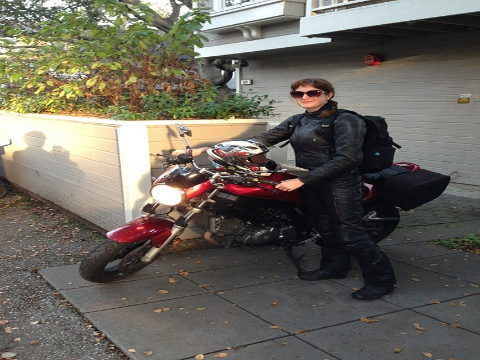hand: (274, 177, 303, 192)
